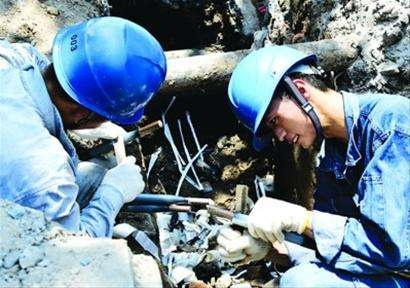blue: (43, 15, 170, 140), (222, 39, 333, 152)
